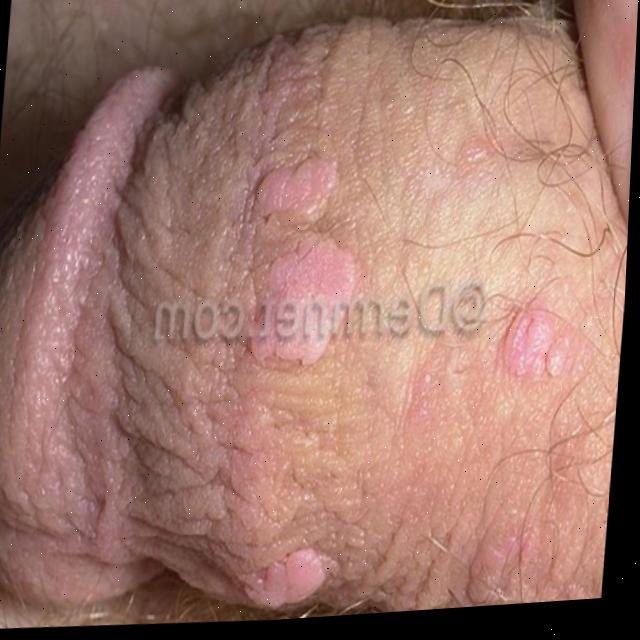Shingles: (245, 144, 377, 376), (497, 294, 587, 394), (239, 543, 337, 617)
